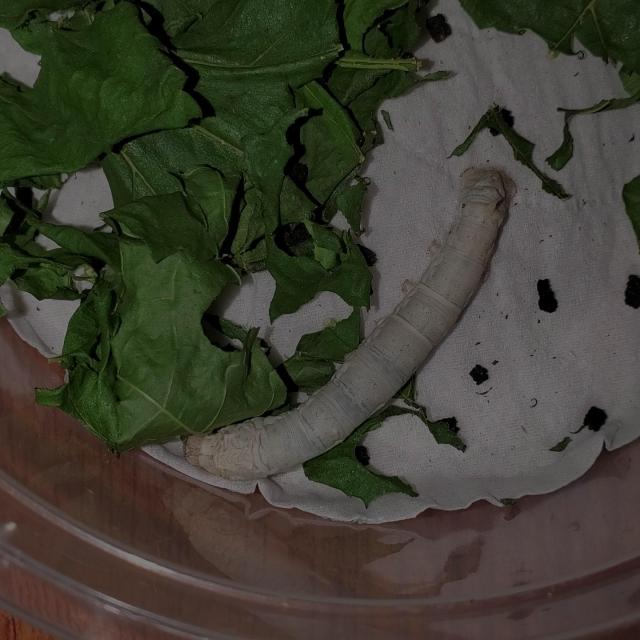Healthy: (174, 156, 524, 487)
